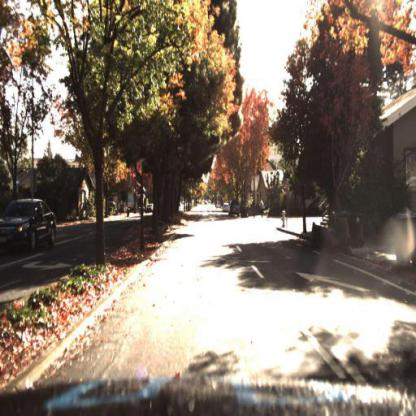car: (1, 198, 58, 253), (226, 199, 242, 220)
pedestrian: (260, 197, 267, 220), (259, 195, 265, 218)
